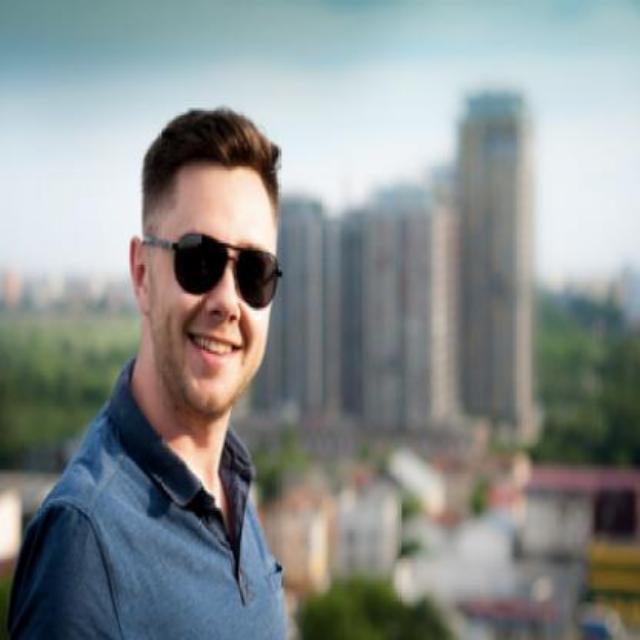sunglasses: (140, 231, 284, 307)
